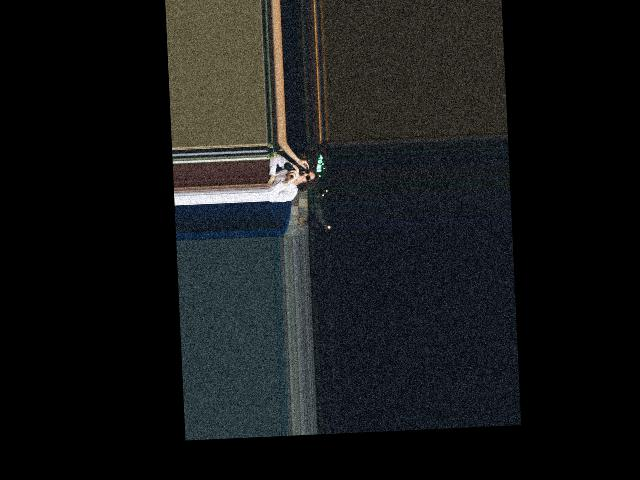beer: (282, 160, 303, 175)
